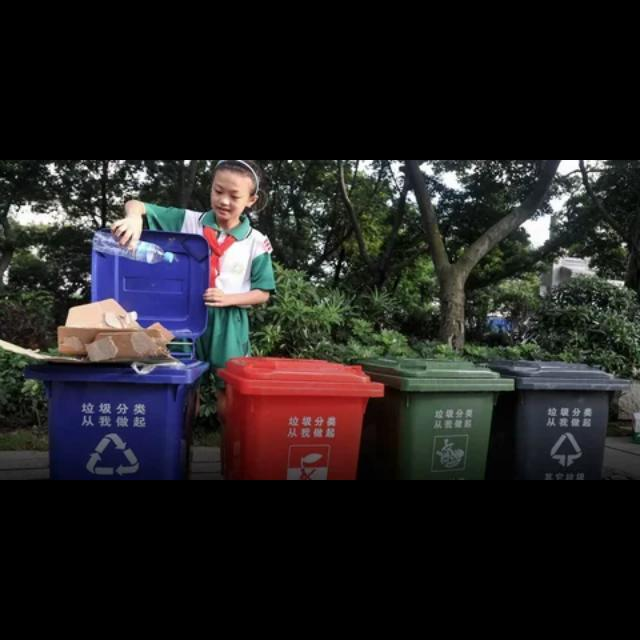Trash_Can_Closed: (216, 356, 385, 480), (355, 355, 515, 479), (488, 361, 632, 480)
Trash_Can_Full: (22, 298, 211, 480)
